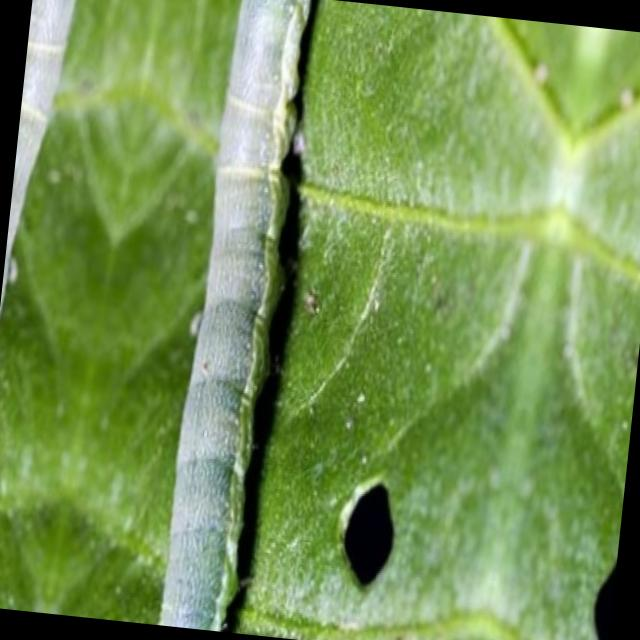Armyworm: (156, 1, 322, 636)
Armyworm_damage: (318, 391, 443, 640)
